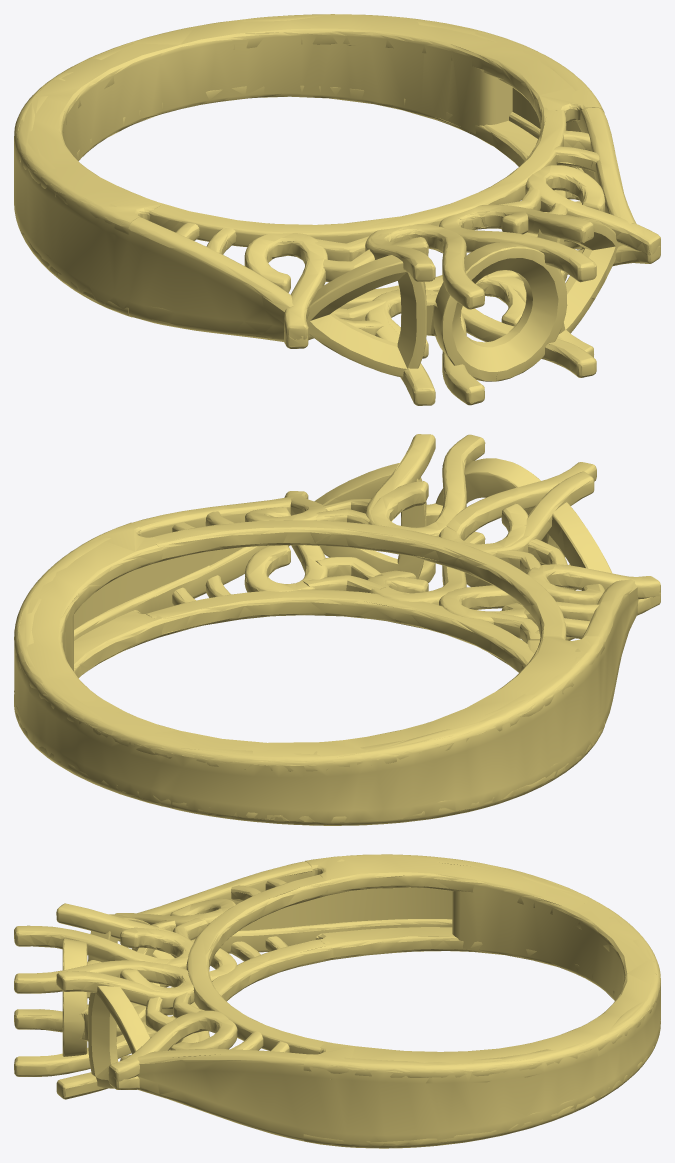
3 renders of one model, top to bottom at view 1: azimuth 30°, elevation 25°; view 2: azimuth 150°, elevation 25°; view 3: azimuth 270°, elevation 25°, orthographic. The views are drawn at different scales.
Visible parts, largest first — view 1: lr-0029; view 2: lr-0029; view 3: lr-0029.
Boxes of the visible parts, left/top/right/bottom form: lr-0029: left=14, top=14, right=660, bottom=405; lr-0029: left=14, top=434, right=660, bottom=825; lr-0029: left=14, top=854, right=660, bottom=1148.
Bounding box in the file's own units: 0.7868 × 0.2102 × 1.
